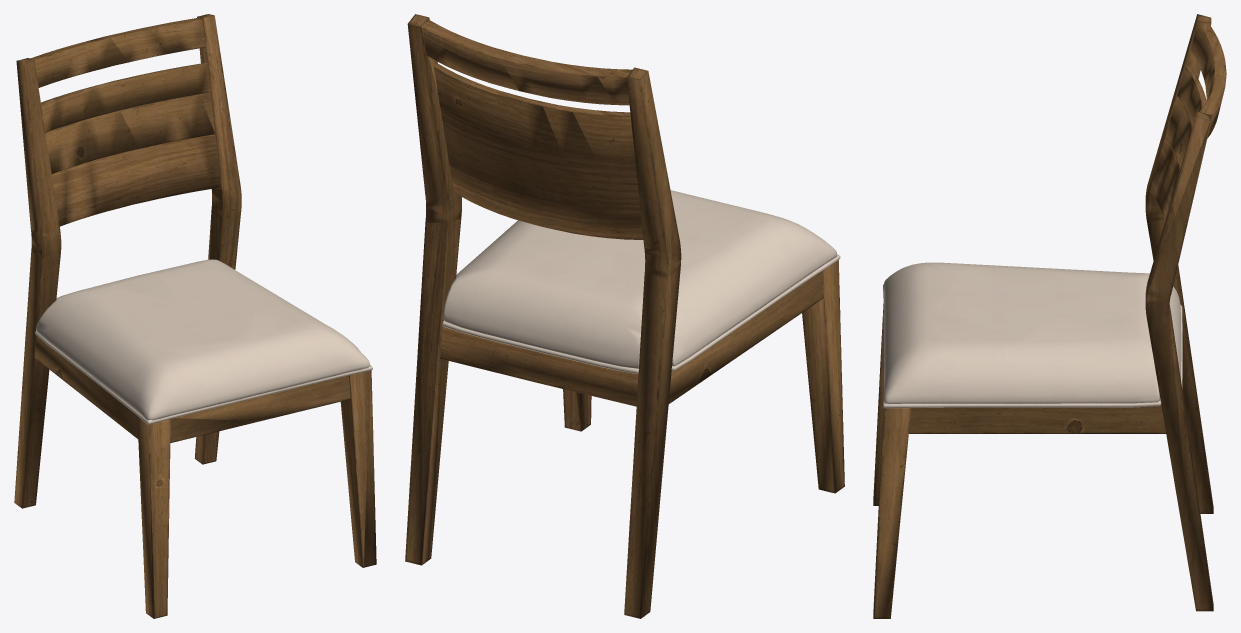
Rendered from dining_chair_abo_B07B79SZV1.glb.
3 views of the same model, side by side, from view 1: azimuth 30°, elevation 25°; view 2: azimuth 150°, elevation 25°; view 3: azimuth 270°, elevation 25° (orthographic). The views are drawn at different scales.
Parts seen in each view (by area): view 1: RootNode; view 2: RootNode; view 3: RootNode.
Boxes of the visible parts, x1,y1,x2,y2 form: RootNode: [14, 14, 376, 618]; RootNode: [405, 14, 844, 618]; RootNode: [873, 14, 1226, 618].
Size of the model in its own units: 0.4972 by 0.9389 by 0.6097.
1 material, 1 textured.
